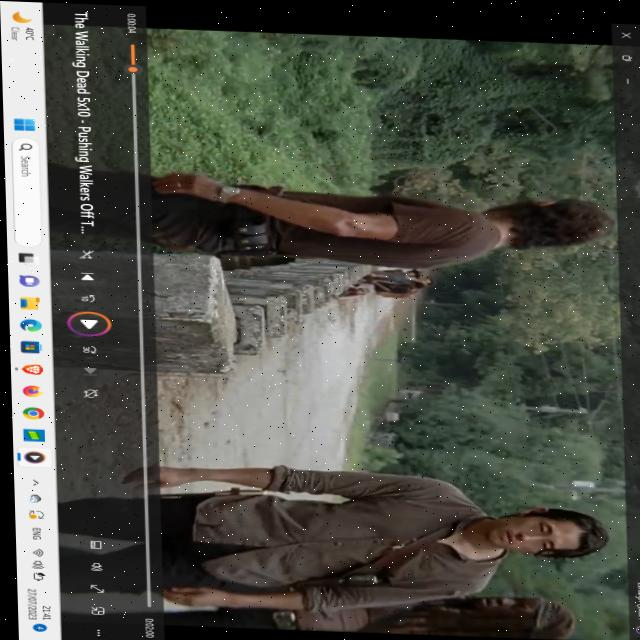human: (476, 498, 593, 554), (449, 584, 567, 628), (404, 266, 420, 274), (407, 278, 419, 286), (419, 274, 431, 282)
